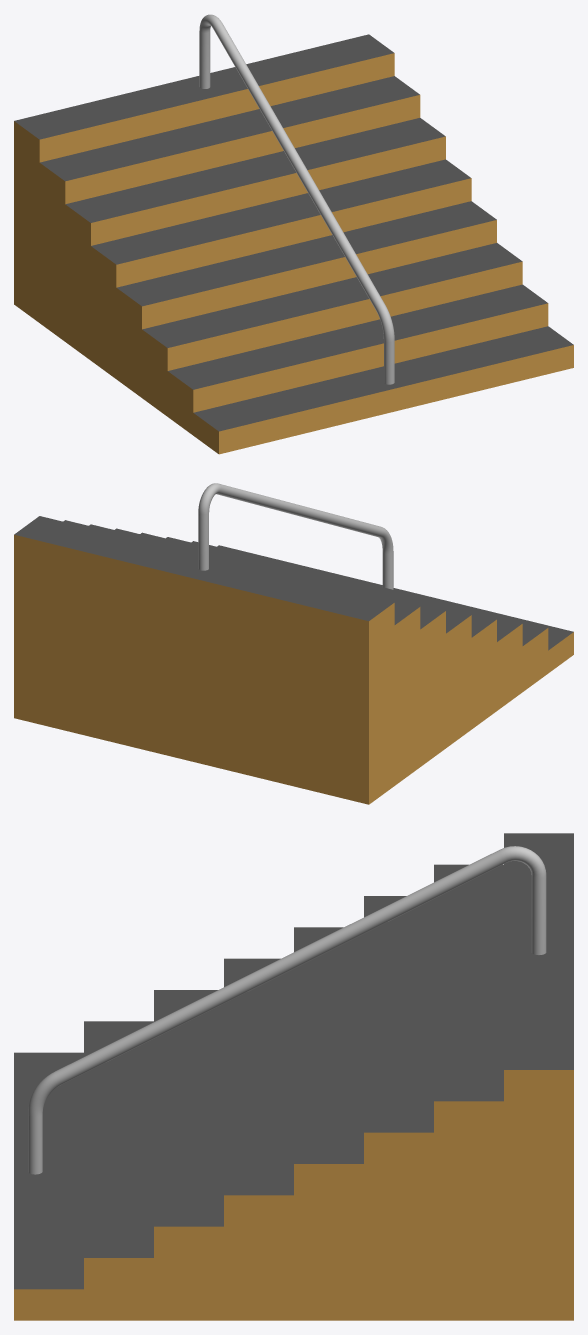
The model's file is Skate_Stairs_Handrail_Middle_01.FBX.
The picture shows the model from 3 angles, top to bottom: view 1: azimuth 30°, elevation 25°; view 2: azimuth 150°, elevation 25°; view 3: azimuth 270°, elevation 25°; orthographic projection. The views are drawn at different scales.
Parts seen in each view (by area): view 1: Skate_Stairs_Handrail_Middle_01; view 2: Skate_Stairs_Handrail_Middle_01; view 3: Skate_Stairs_Handrail_Middle_01.
Part boxes in pixels (bbox=[...]): Skate_Stairs_Handrail_Middle_01: bbox=[14, 14, 573, 454]; Skate_Stairs_Handrail_Middle_01: bbox=[14, 483, 573, 804]; Skate_Stairs_Handrail_Middle_01: bbox=[14, 833, 573, 1320].
Bounding box in the file's own units: 3 × 2.1 × 3.
